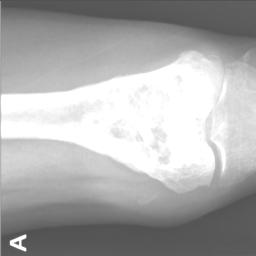cancer: (67, 50, 224, 190)
